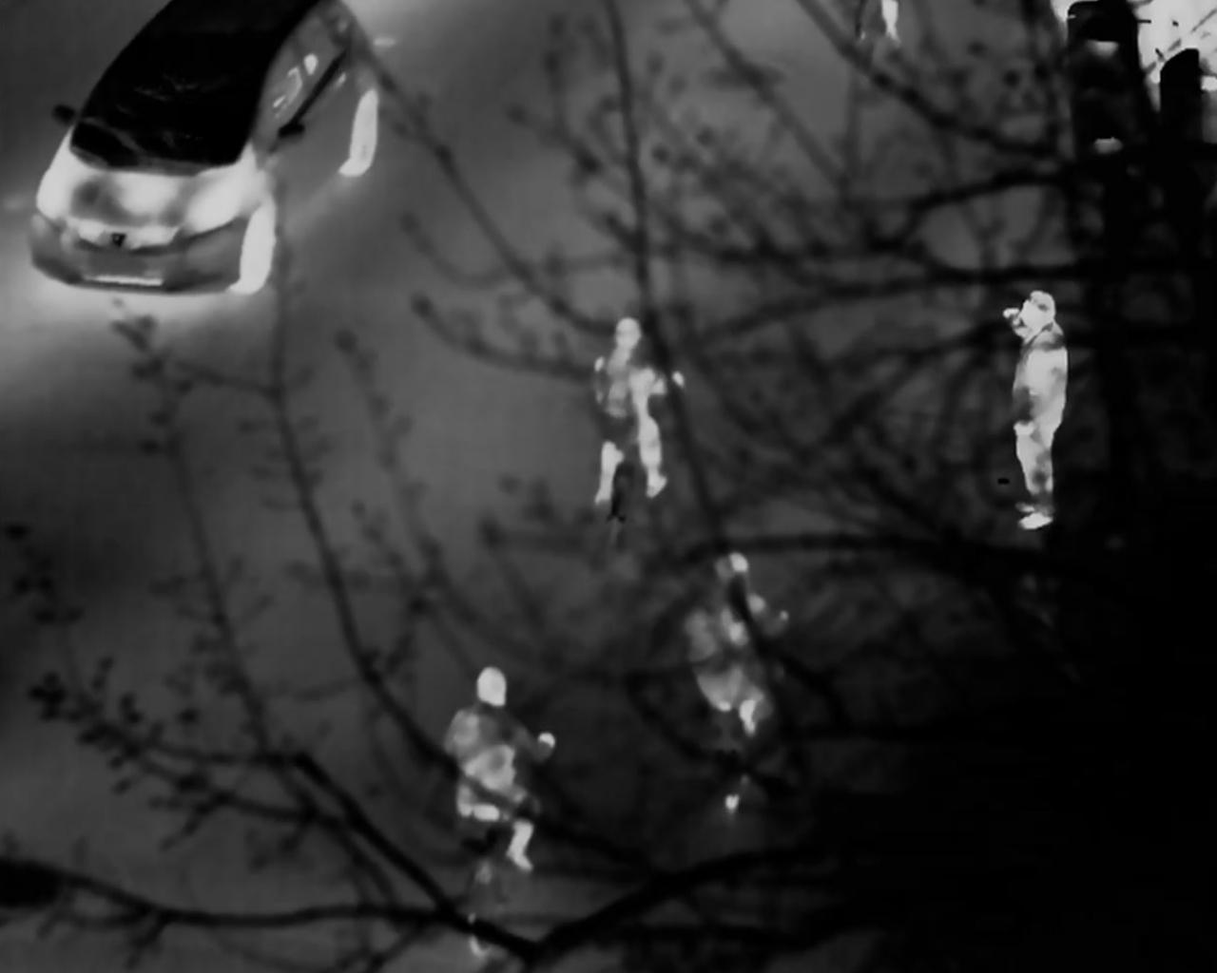person: (443, 678, 556, 913), (590, 314, 688, 540), (689, 546, 782, 746), (1011, 296, 1070, 540)
